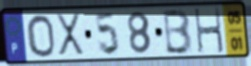5: (93, 11, 120, 57)
8: (126, 10, 153, 56)
B: (162, 7, 195, 57)
H: (192, 6, 226, 55)
O: (25, 13, 57, 59)
X: (54, 11, 87, 58)
